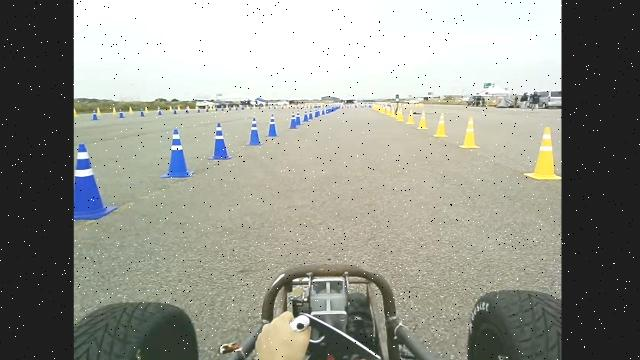blue cone: (73, 143, 118, 220), (160, 128, 194, 178), (208, 122, 232, 160), (246, 116, 262, 146), (266, 113, 278, 137), (288, 112, 297, 129), (295, 110, 302, 126), (302, 110, 308, 122)
yellow cone: (523, 126, 561, 180), (458, 116, 480, 149), (432, 112, 448, 138), (416, 109, 428, 130), (406, 109, 414, 124), (395, 110, 404, 122), (385, 106, 391, 116)
